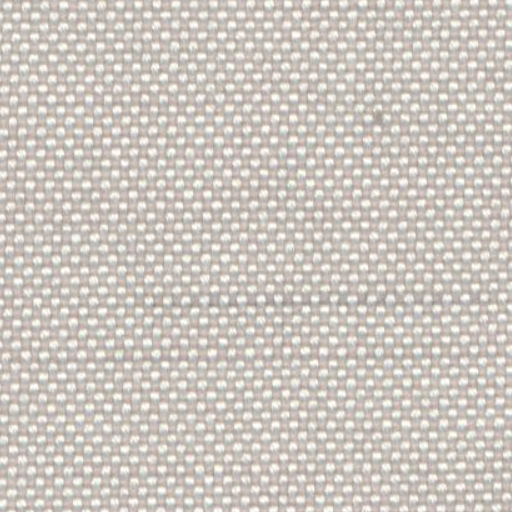WuZi: (358, 95, 408, 142)
